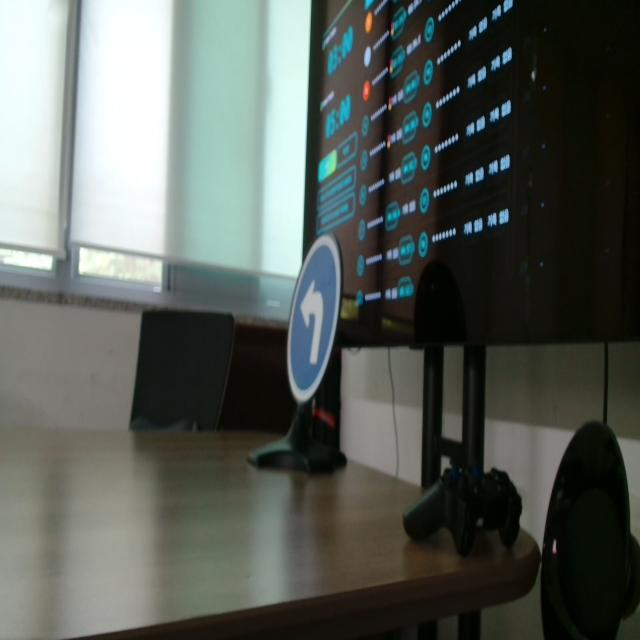left_direction: (281, 229, 347, 411)
